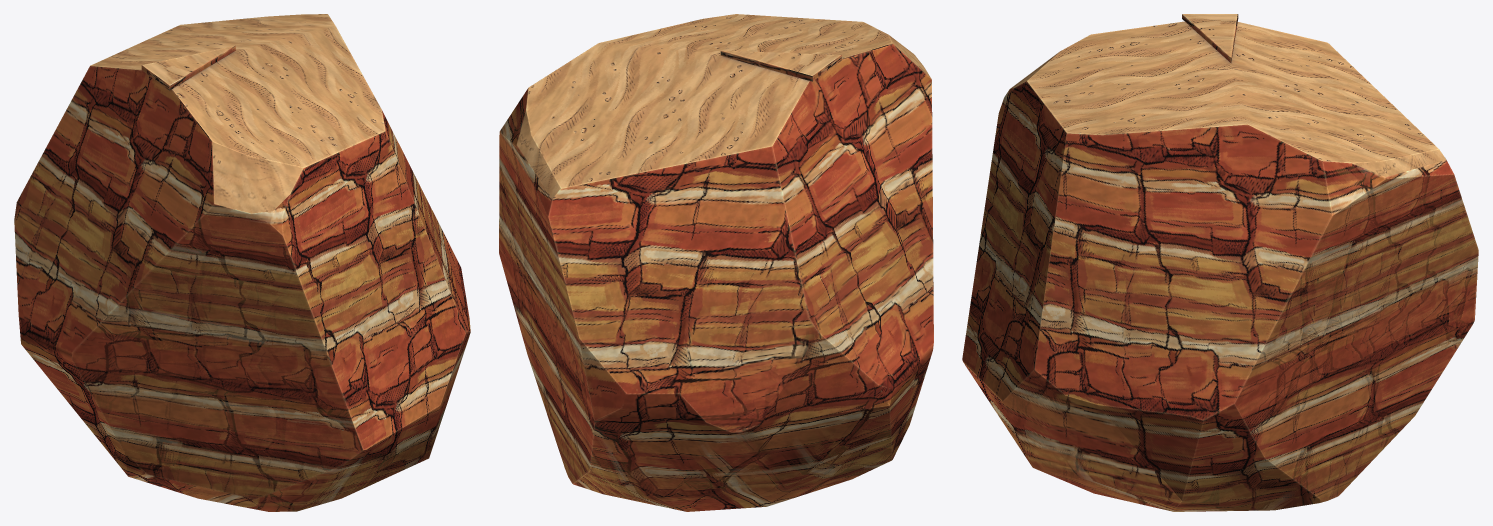
Rendered from v4_rocher_s1e.glb.
The picture shows the model from 3 angles, left to right: view 1: azimuth 30°, elevation 25°; view 2: azimuth 150°, elevation 25°; view 3: azimuth 270°, elevation 25°; orthographic projection. The views are drawn at different scales.
Visible parts, largest first — view 1: v4_rocher_s1e; view 2: v4_rocher_s1e; view 3: v4_rocher_s1e.
Boxes of the visible parts, left/top/right/bottom form: v4_rocher_s1e: left=14, top=14, right=470, bottom=511; v4_rocher_s1e: left=499, top=14, right=933, bottom=511; v4_rocher_s1e: left=962, top=14, right=1478, bottom=511.
Size of the model in its own units: 4 by 3.8 by 4.5.
1 material, 1 textured.
